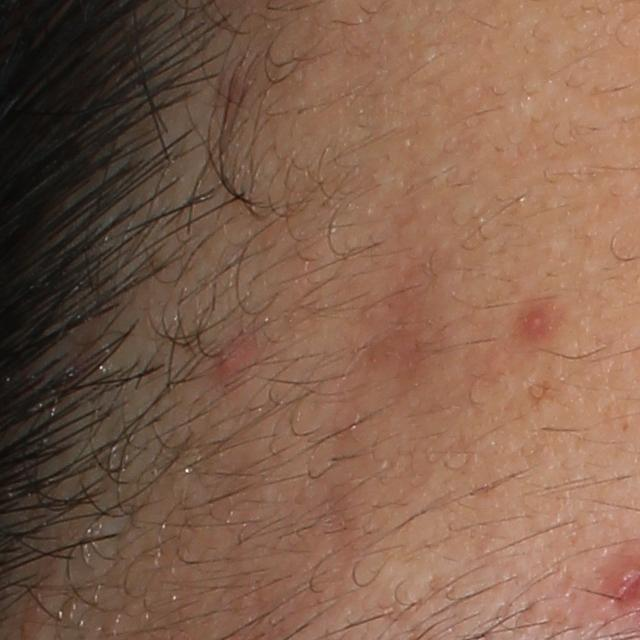papule: (214, 337, 247, 390), (523, 310, 544, 330)
